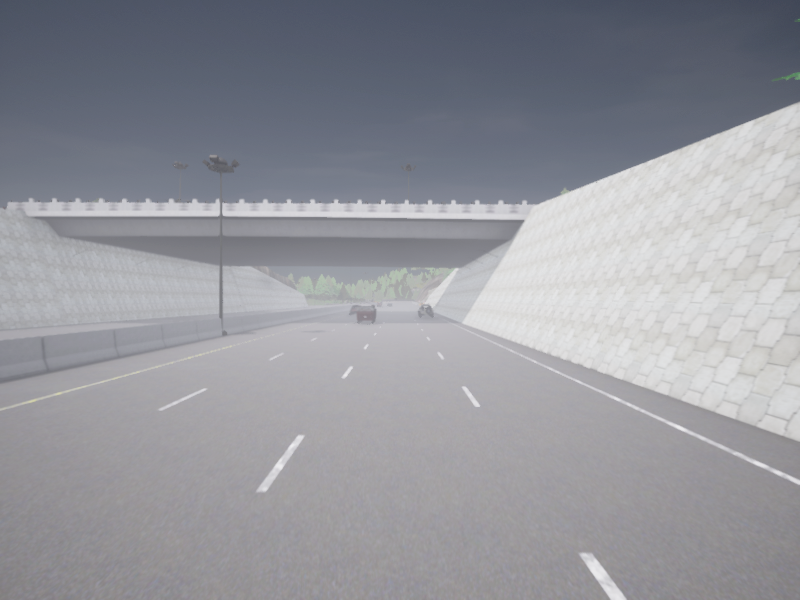vehicle: (357, 304, 376, 322), (418, 304, 432, 317), (350, 305, 357, 314), (377, 302, 382, 306), (387, 303, 392, 306)
